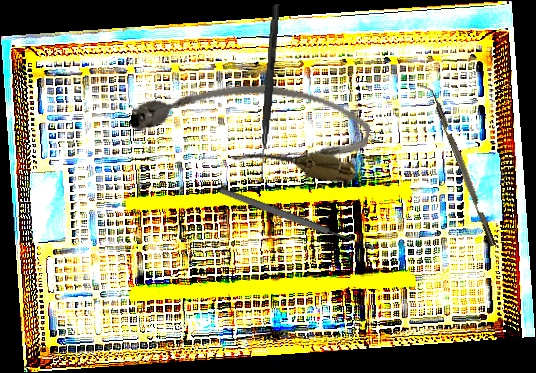Cannula: (126, 60, 375, 187)
Chopper: (419, 80, 497, 250)
Hook Surgical: (258, 3, 280, 180)
Surgical Spoon: (218, 185, 376, 254)
